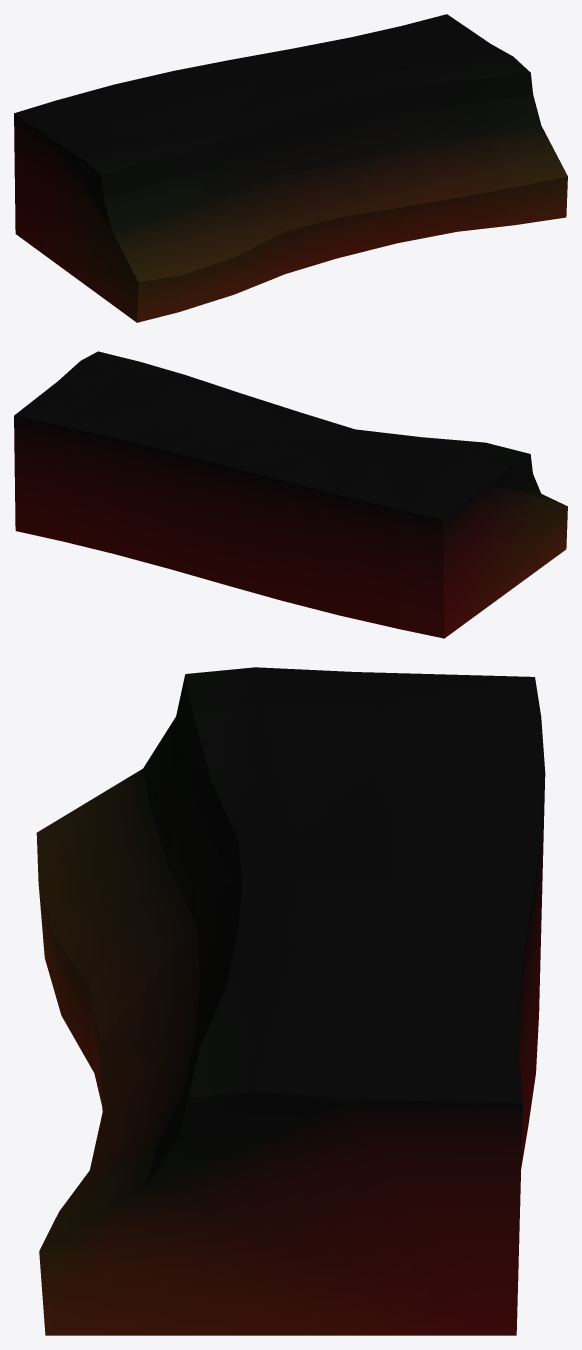
Rendered from SM_ShoreBank_Curve_01.fbx.
3 renders of one model, top to bottom at view 1: azimuth 30°, elevation 25°; view 2: azimuth 150°, elevation 25°; view 3: azimuth 270°, elevation 25°, orthographic. The views are drawn at different scales.
Parts seen in each view (by area): view 1: SM_ShoreBank_Curve_01; view 2: SM_ShoreBank_Curve_01; view 3: SM_ShoreBank_Curve_01.
Boxes of the visible parts, x1,y1,x2,y2 form: SM_ShoreBank_Curve_01: (14,14,567,322); SM_ShoreBank_Curve_01: (14,351,567,638); SM_ShoreBank_Curve_01: (36,667,545,1335).
Bounding box in the file's own units: 4 × 2.05 × 1.15.
